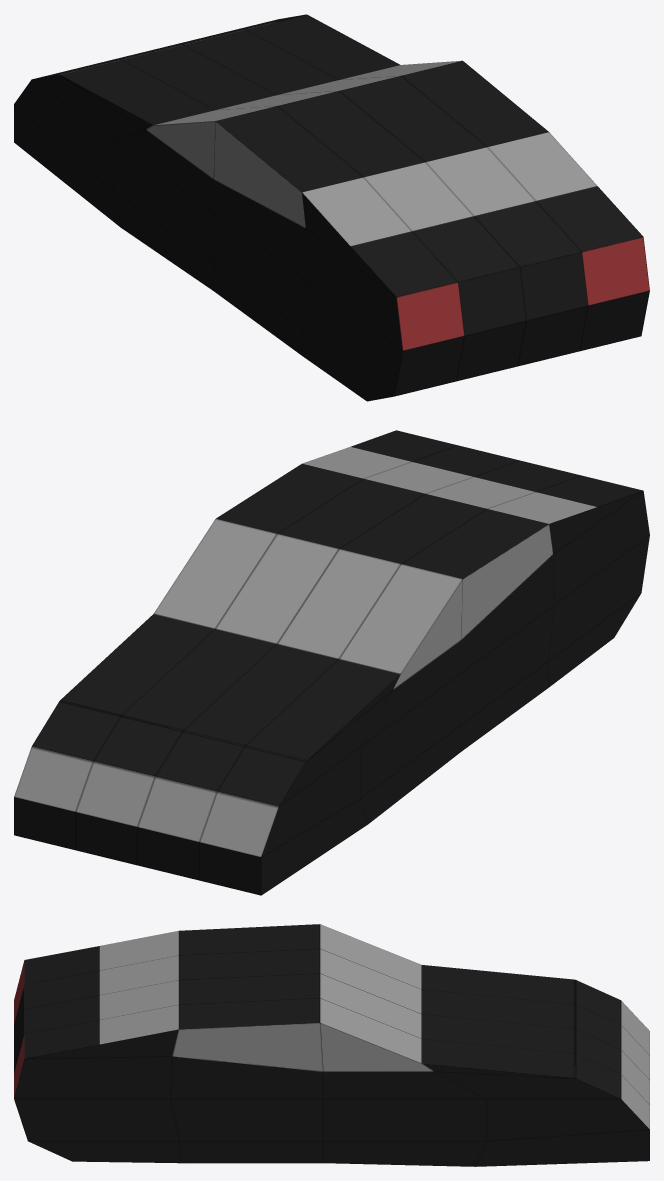
File: FlyingCar.obj
3 views of the same model, one above another, from view 1: azimuth 30°, elevation 25°; view 2: azimuth 150°, elevation 25°; view 3: azimuth 270°, elevation 25° (orthographic). The views are drawn at different scales.
Visible parts, largest first — view 1: pCube1; view 2: pCube1; view 3: pCube1.
Part boxes in pixels (x1,y1,x2,y2): pCube1: (14,14,649,401); pCube1: (14,430,649,895); pCube1: (14,924,649,1166).
Size of the model in its own units: 1.25 by 0.8506 by 3.4.
Materials: 1 (1 with a texture image).
